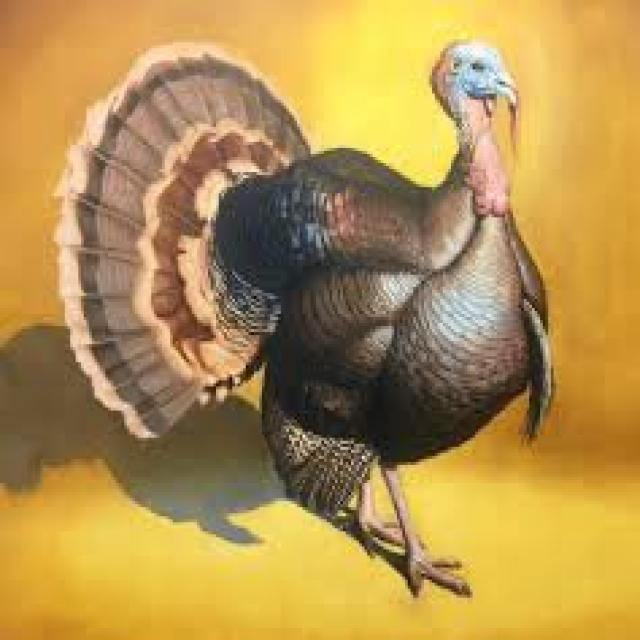Turkey: (52, 28, 563, 604)
